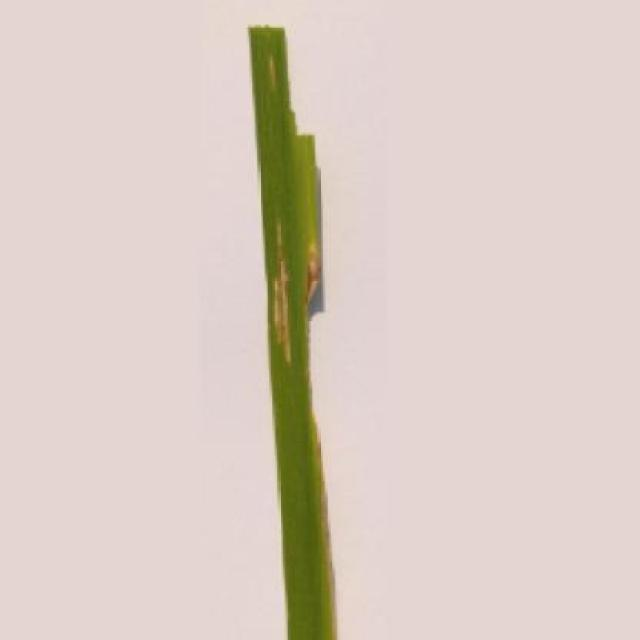Brown_Spot: (247, 12, 342, 640)
